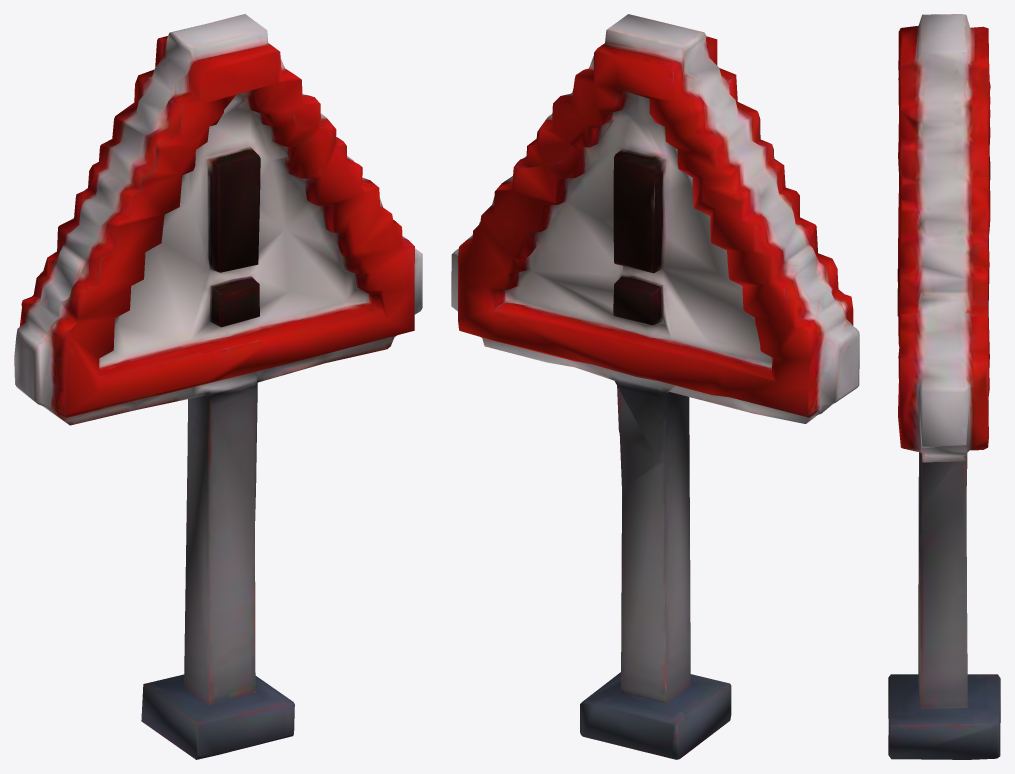
Rendered from traffic-sign-danger.glb.
The picture shows the model from 3 angles, left to right: view 1: azimuth 30°, elevation 25°; view 2: azimuth 150°, elevation 25°; view 3: azimuth 270°, elevation 25°; orthographic projection.
Visible parts, largest first — view 1: material; view 2: material; view 3: material.
Part boxes in pixels (x1,y1,x2,y2): material: (14, 14, 422, 759); material: (451, 14, 859, 759); material: (888, 14, 1000, 759).
Bounding box in the file's own units: 0.6817 × 1.18 × 0.1702.
1 material, 1 textured.
